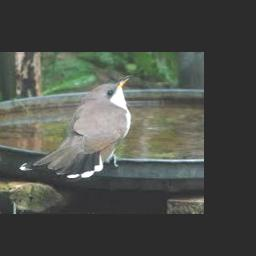Cuckoo: (19, 75, 135, 178)
